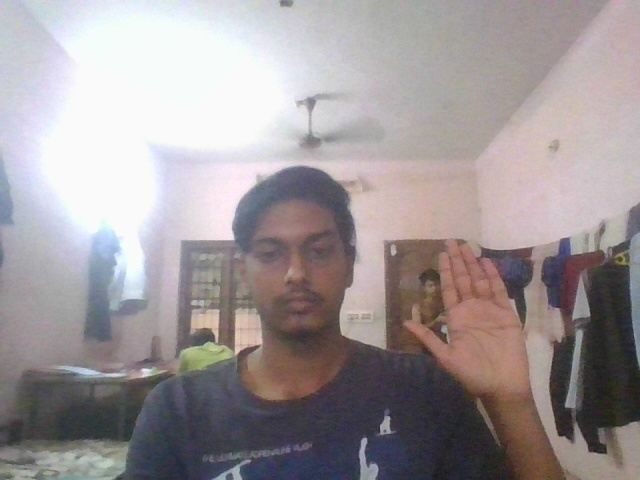hello: (400, 234, 546, 404)
